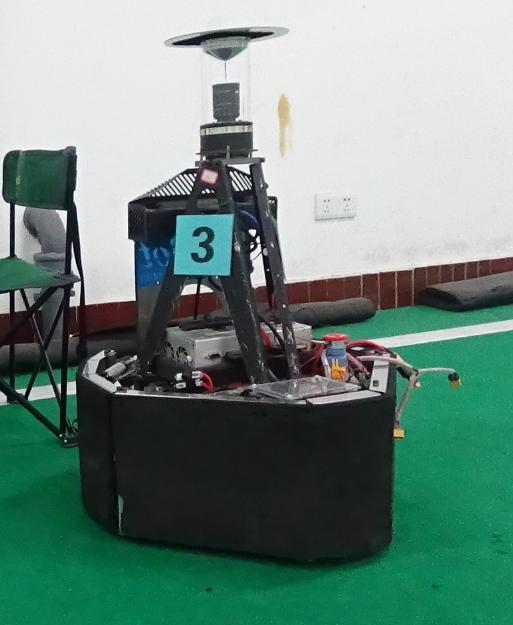robot: (78, 15, 410, 574)
